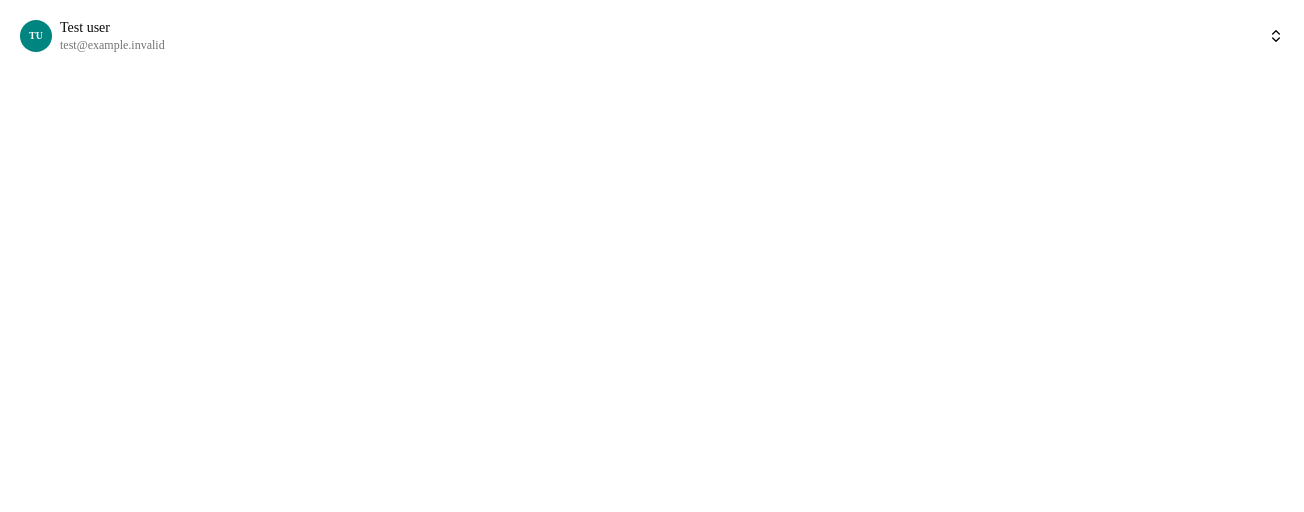
it: desktop account actions › shows desktop controls in the Tauri window
Press the mouse on the button "TU Test user test@example.invalid" at (36, 36), box x1=12 y1=12 x2=1292 y2=60
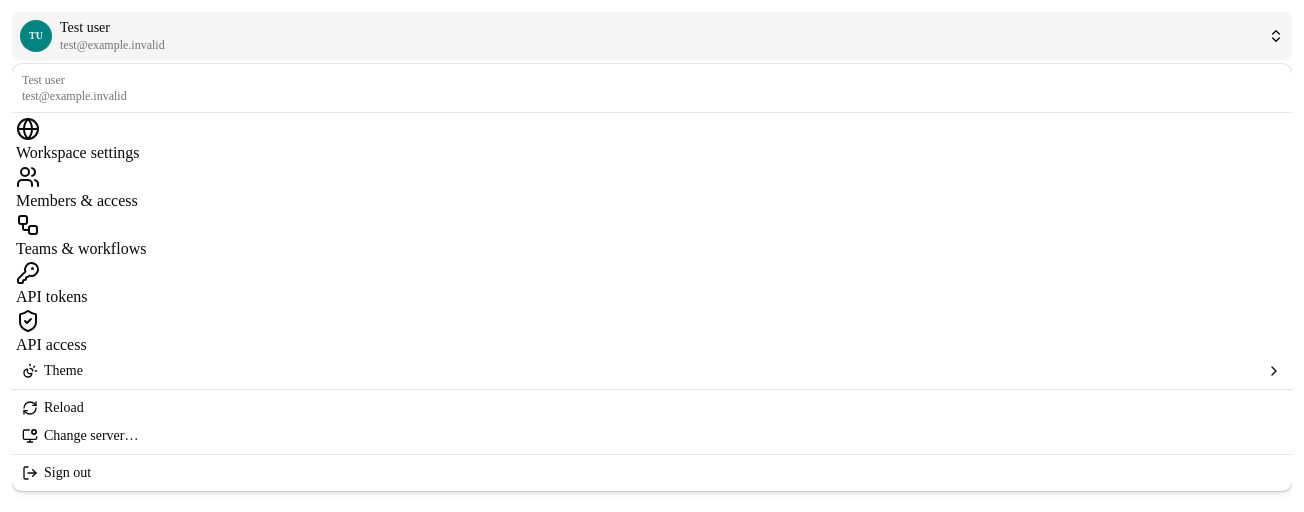
Expected: the menu item "Change server…" is shown, x1=22 y1=428 x2=138 y2=444
Expected: the menu item "Reload" is shown, x1=22 y1=400 x2=84 y2=416
